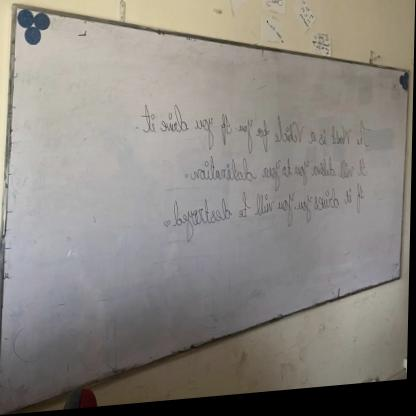Handwritten text: (164, 171, 375, 251), (135, 98, 373, 158), (184, 155, 372, 190)
Whiteboard: (0, 7, 411, 416)
